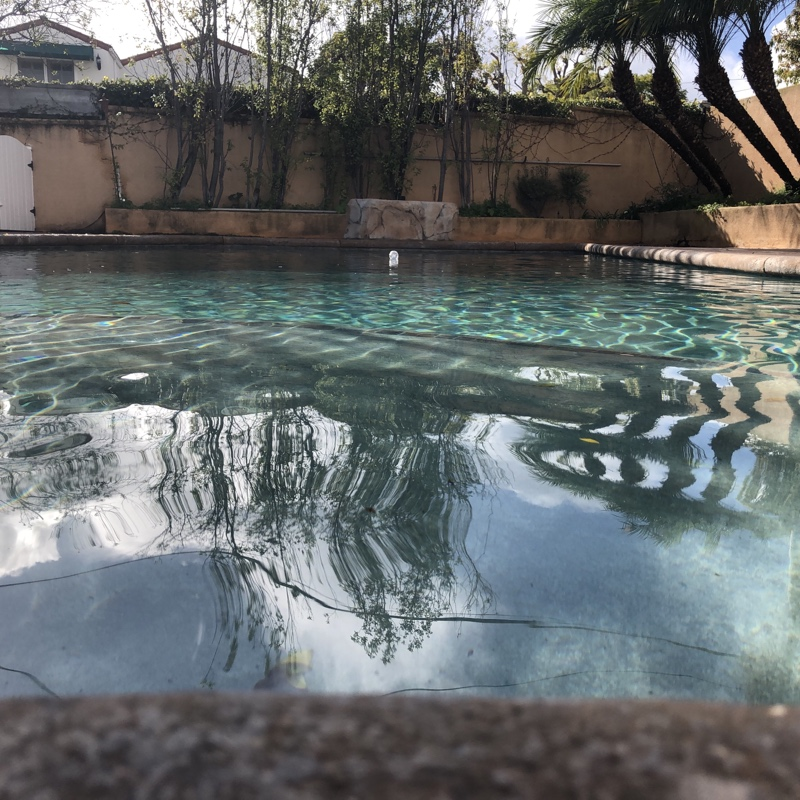Plastic Bottle: (386, 247, 400, 269)
